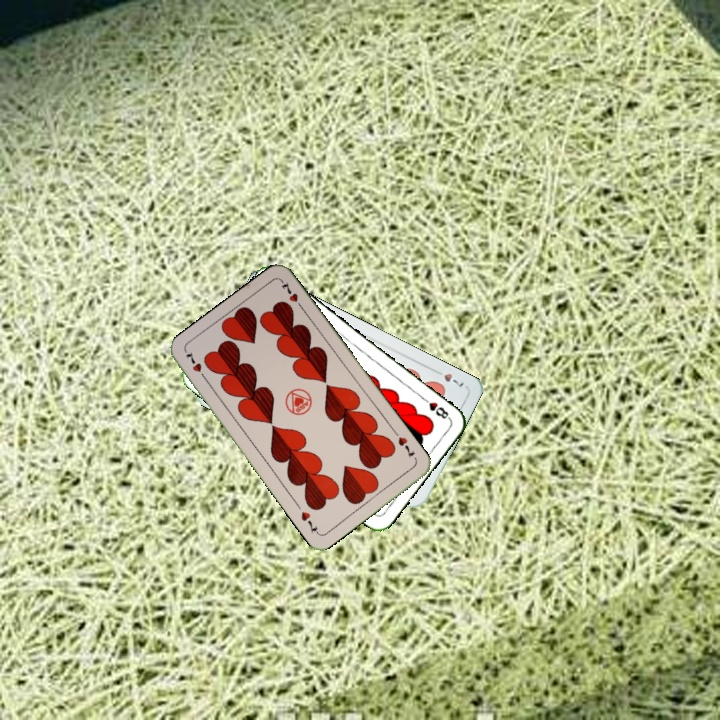H7: (182, 347, 210, 383), (430, 366, 467, 390), (390, 428, 417, 460)
H8: (418, 393, 453, 422)
